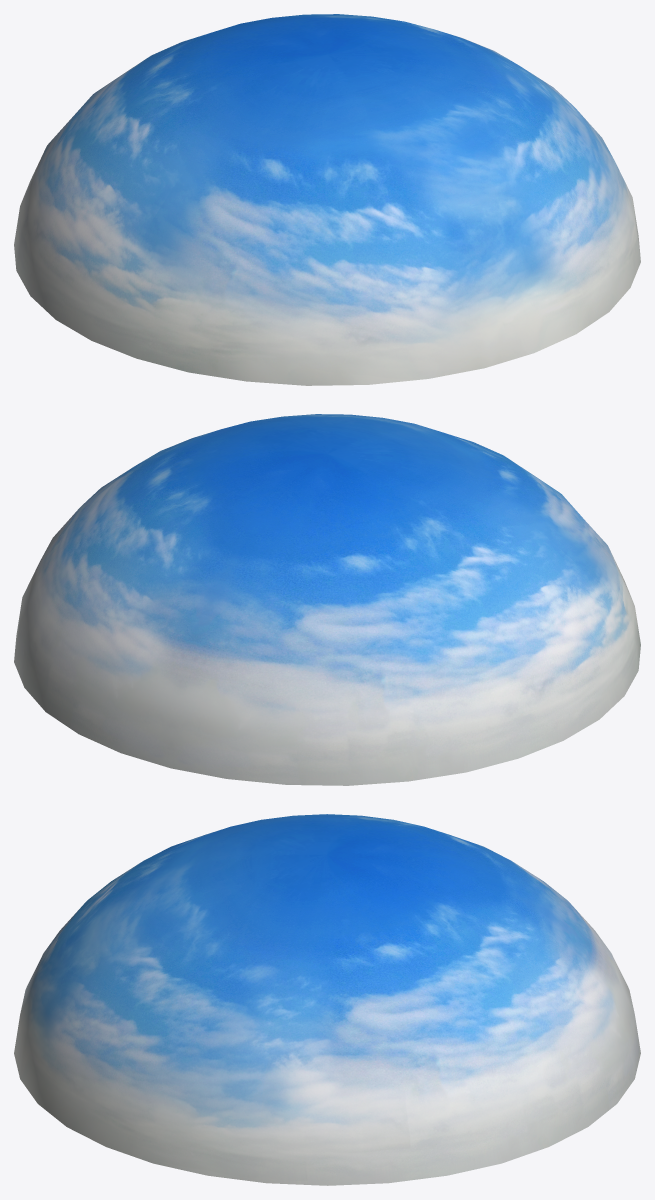
Rendered from skydome.glb.
3 renders of one model, top to bottom at view 1: azimuth 30°, elevation 25°; view 2: azimuth 150°, elevation 25°; view 3: azimuth 270°, elevation 25°, orthographic.
Visible parts, largest first — view 1: Skydome; view 2: Skydome; view 3: Skydome.
Boxes of the visible parts, x1,y1,x2,y2 form: Skydome: (14, 14, 640, 385); Skydome: (14, 414, 640, 785); Skydome: (14, 814, 640, 1185).
Size of the model in its own units: 775 by 271 by 775.
Materials: 1 (1 with a texture image).
